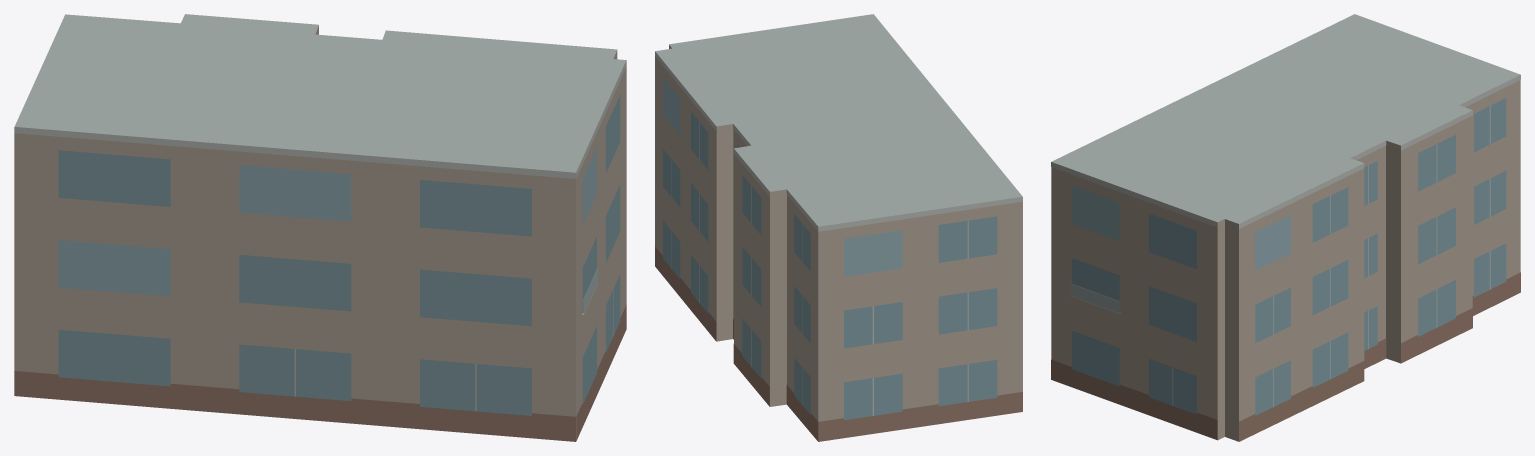
Rendered from survey-upis-32661774.glb.
3 renders of one model, left to right at view 1: azimuth 30°, elevation 25°; view 2: azimuth 150°, elevation 25°; view 3: azimuth 270°, elevation 25°, orthographic. The views are drawn at different scales.
Visible parts, largest first — view 1: survey-upis-32661774.tmp; view 2: survey-upis-32661774.tmp; view 3: survey-upis-32661774.tmp.
Boxes of the visible parts, x1,y1,x2,y2 form: survey-upis-32661774.tmp: (14, 14, 626, 441); survey-upis-32661774.tmp: (655, 14, 1022, 441); survey-upis-32661774.tmp: (1051, 14, 1520, 441).
Bounding box in the file's own units: 21.5 × 10.4 × 20.32.
